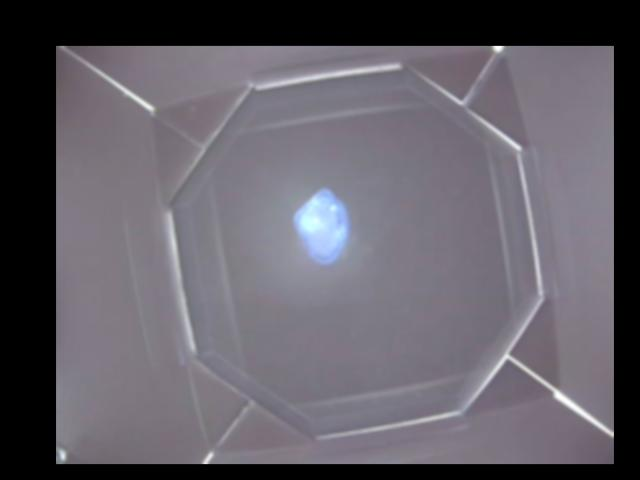Pebble: (296, 187, 348, 264)
